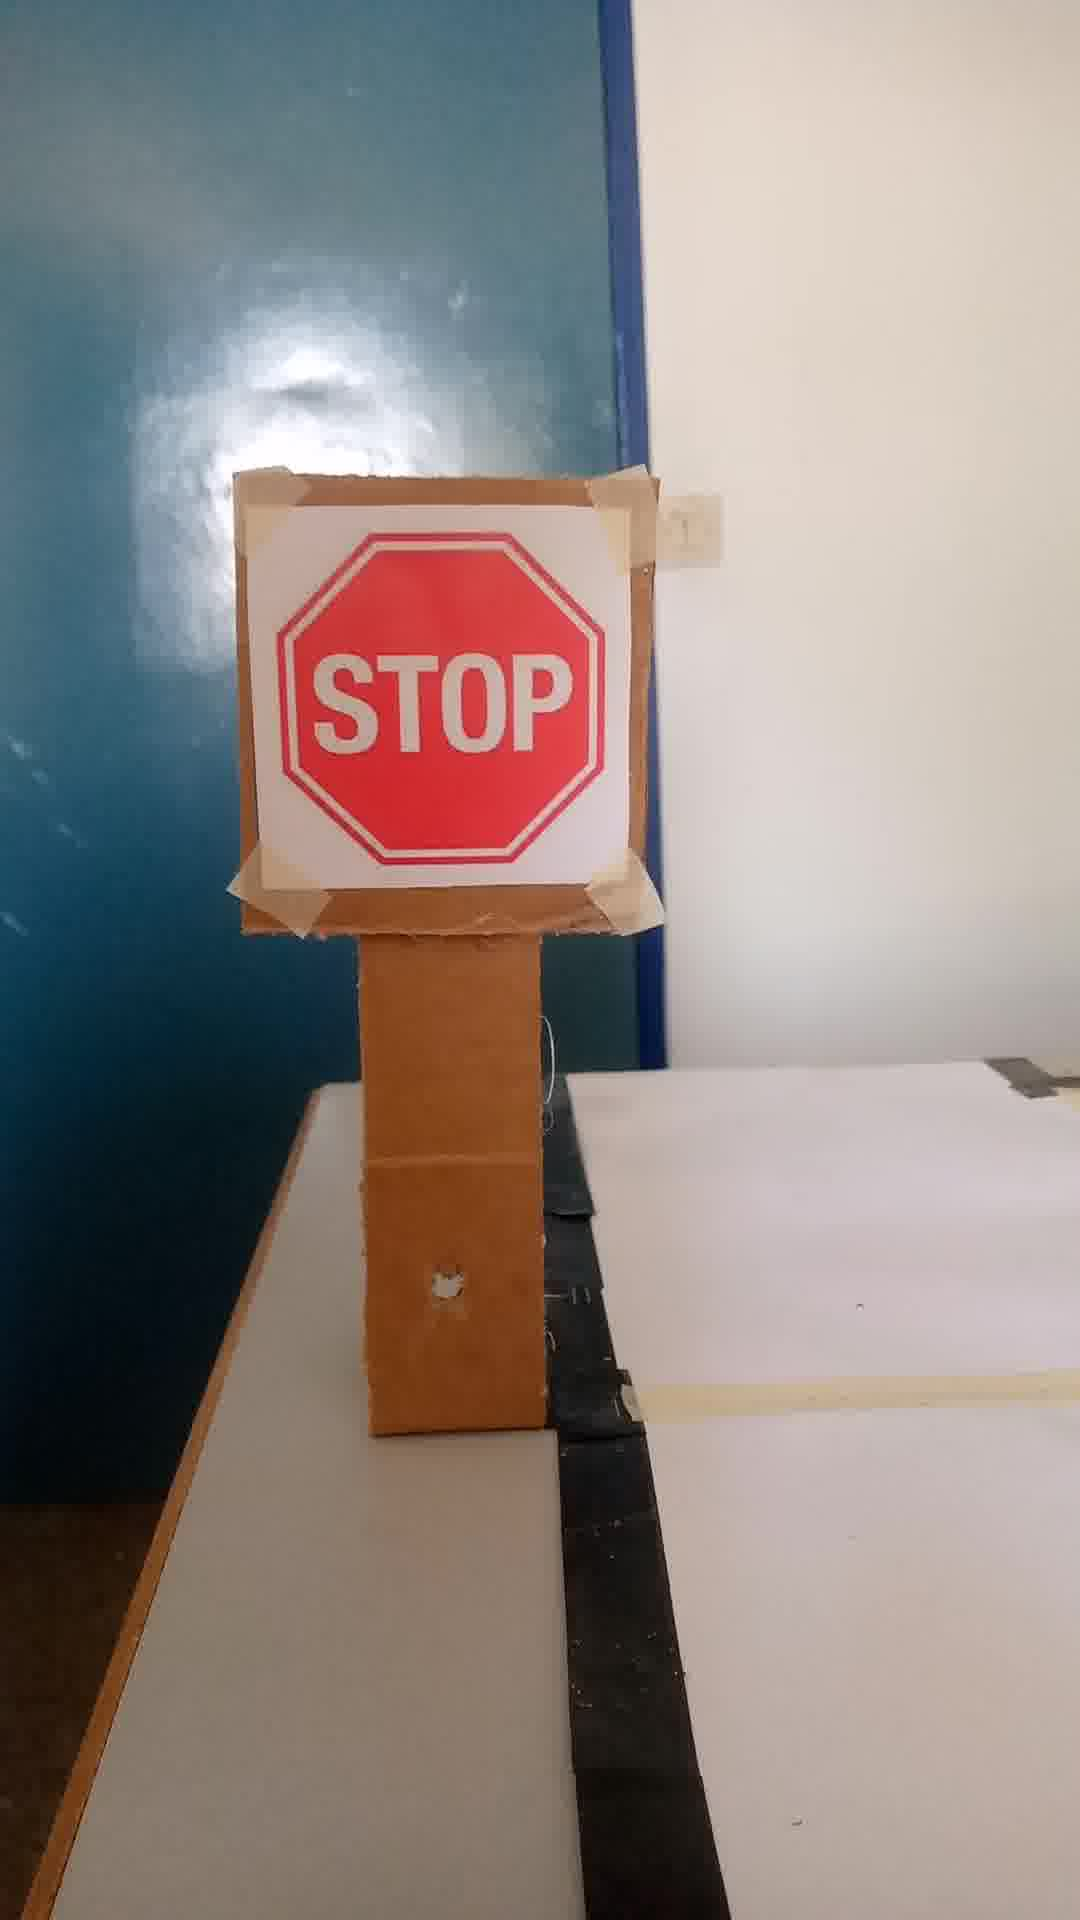panel101: (237, 495, 638, 914)
